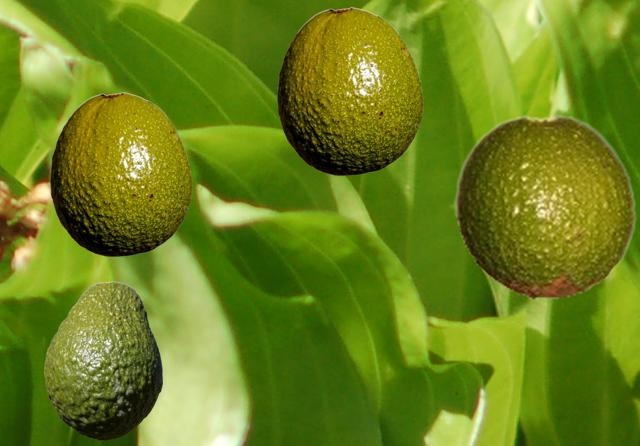avocado: (454, 114, 637, 299), (277, 7, 422, 174), (50, 92, 191, 255), (44, 281, 161, 439)
